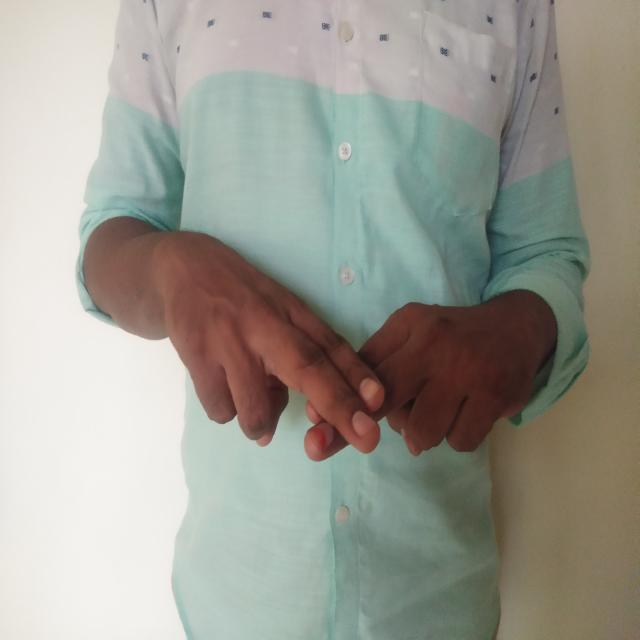F: (149, 215, 550, 484)
